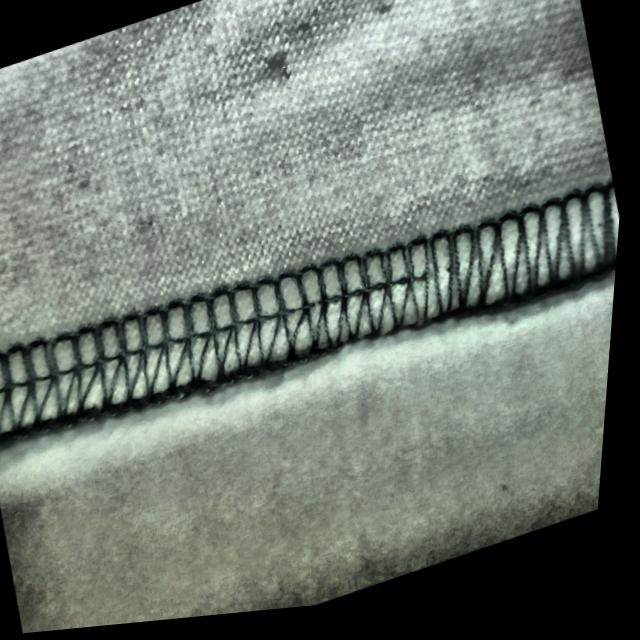Stitch: (253, 173, 627, 392)
